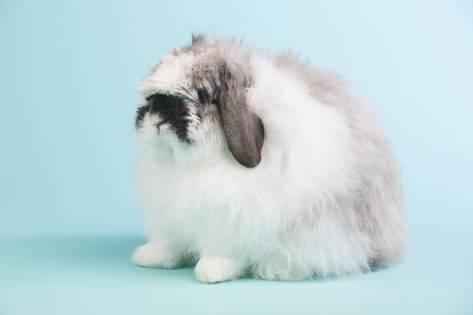bunny: (105, 28, 417, 288)
